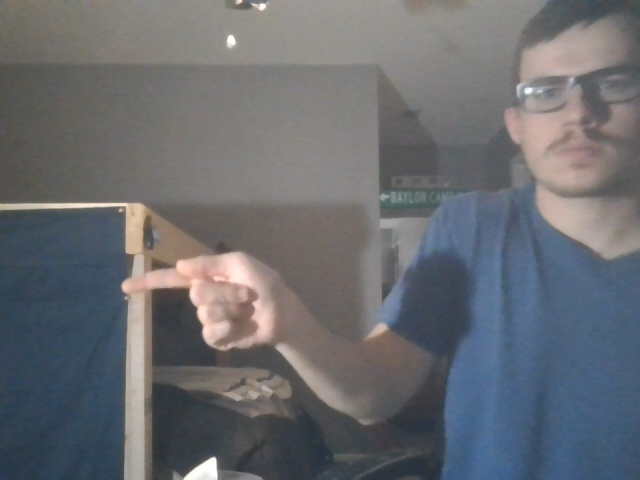G: (99, 247, 290, 363)
